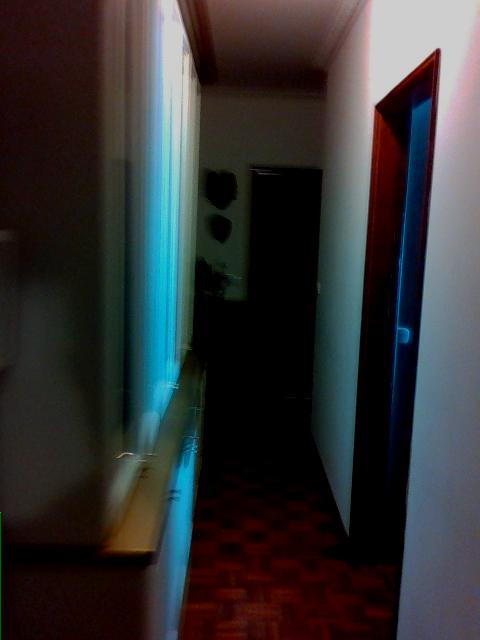closed_door: (247, 165, 322, 403)
